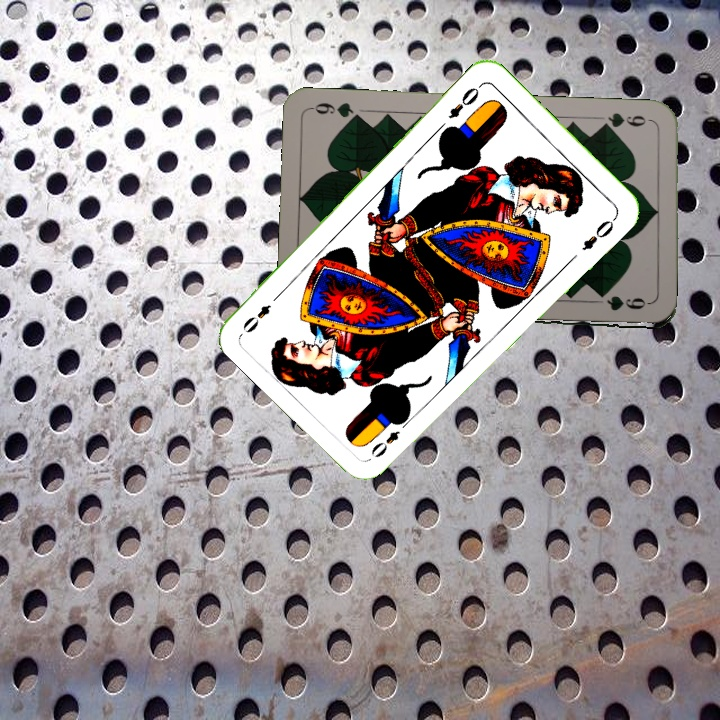EO: (366, 414, 413, 461), (444, 80, 485, 122)
G9: (597, 108, 657, 132)
